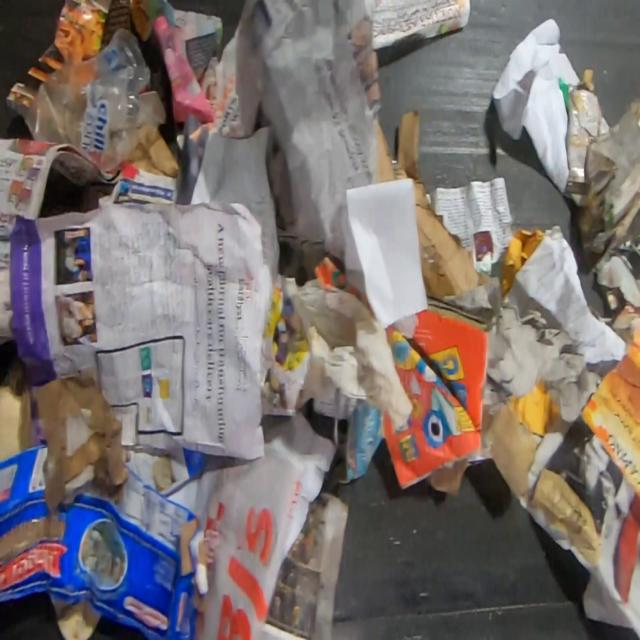cardboard: (0, 442, 208, 638), (378, 109, 488, 299), (566, 67, 640, 272), (484, 400, 538, 502)
rigid_plastic: (25, 27, 170, 174)
